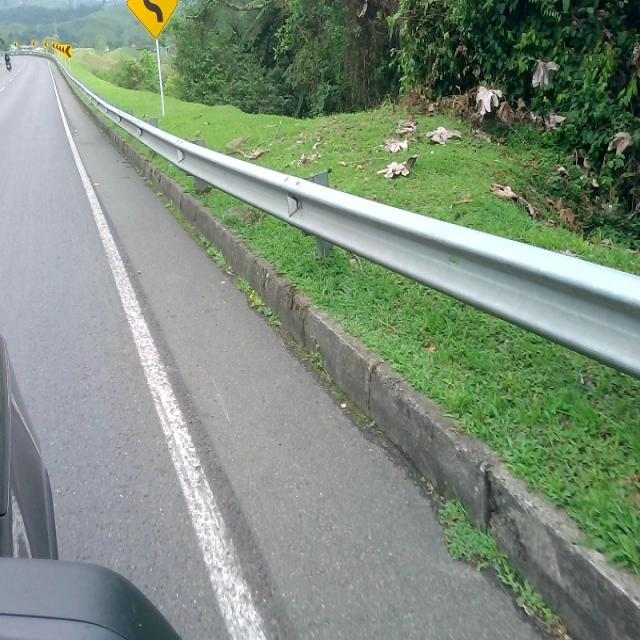DITCH: (29, 46, 638, 638), (2, 96, 638, 638)
